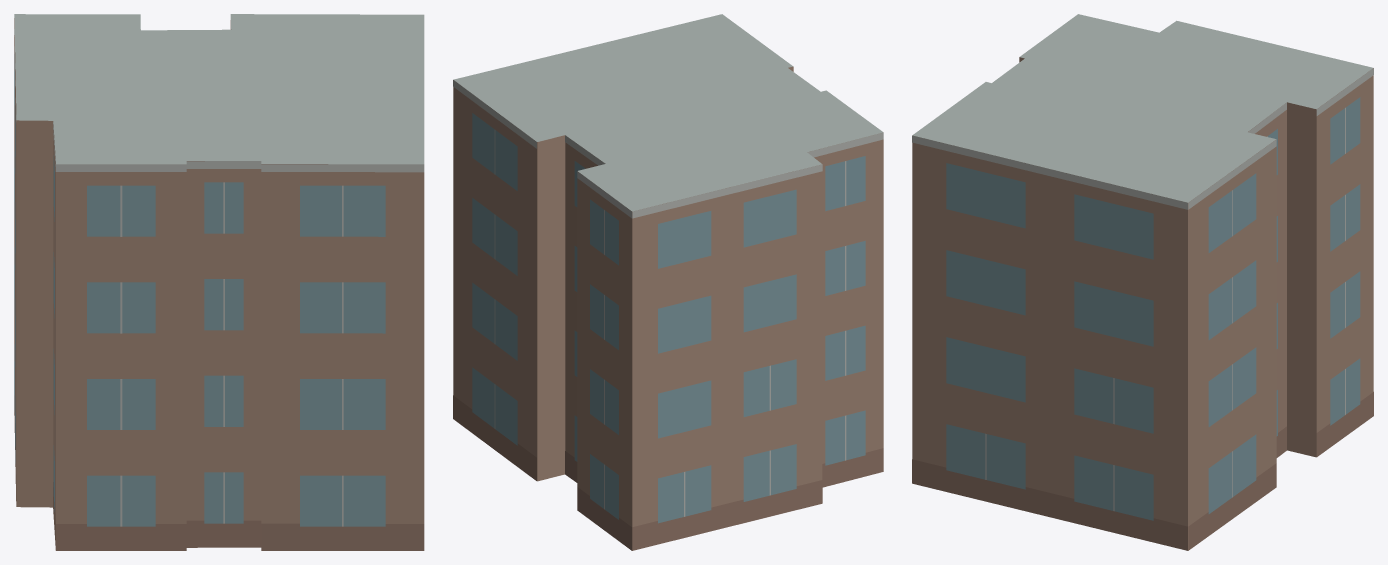
Rendered from survey-upis-32888356.glb.
3 renders of one model, left to right at view 1: azimuth 30°, elevation 25°; view 2: azimuth 150°, elevation 25°; view 3: azimuth 270°, elevation 25°, orthographic. The views are drawn at different scales.
Parts seen in each view (by area): view 1: survey-upis-32888356.tmp; view 2: survey-upis-32888356.tmp; view 3: survey-upis-32888356.tmp.
Boxes of the visible parts, x1=… form: survey-upis-32888356.tmp: x1=14, y1=14, x2=424, y2=550; survey-upis-32888356.tmp: x1=453, y1=14, x2=883, y2=550; survey-upis-32888356.tmp: x1=912, y1=14, x2=1373, y2=550.
Bounding box in the file's own units: 13.73 × 11.8 × 14.19.
